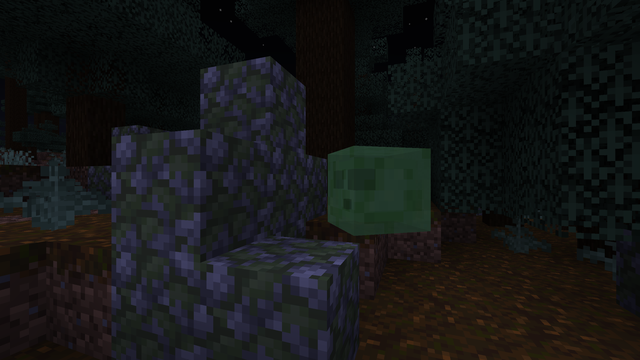slimes: (324, 141, 414, 236)
